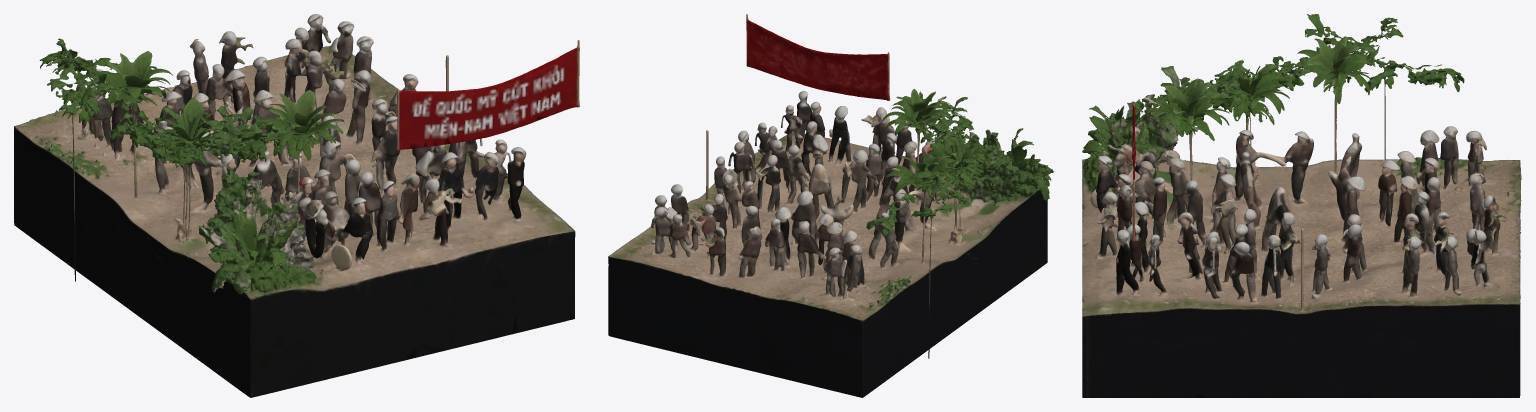
Rendered from doi_quan_toc_dai_ben_tre.glb.
The picture shows the model from 3 angles, left to right: view 1: azimuth 30°, elevation 25°; view 2: azimuth 150°, elevation 25°; view 3: azimuth 270°, elevation 25°; orthographic projection. The views are drawn at different scales.
Size of the model in its own units: 1.86 by 1.11 by 1.9.
Materials: 1 (1 with a texture image).
